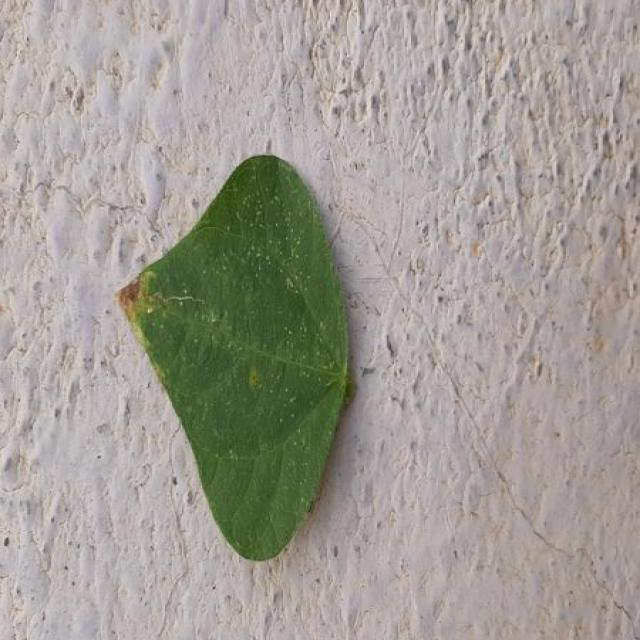beans: (118, 155, 350, 561)
defectedbeans: (118, 186, 240, 444)
